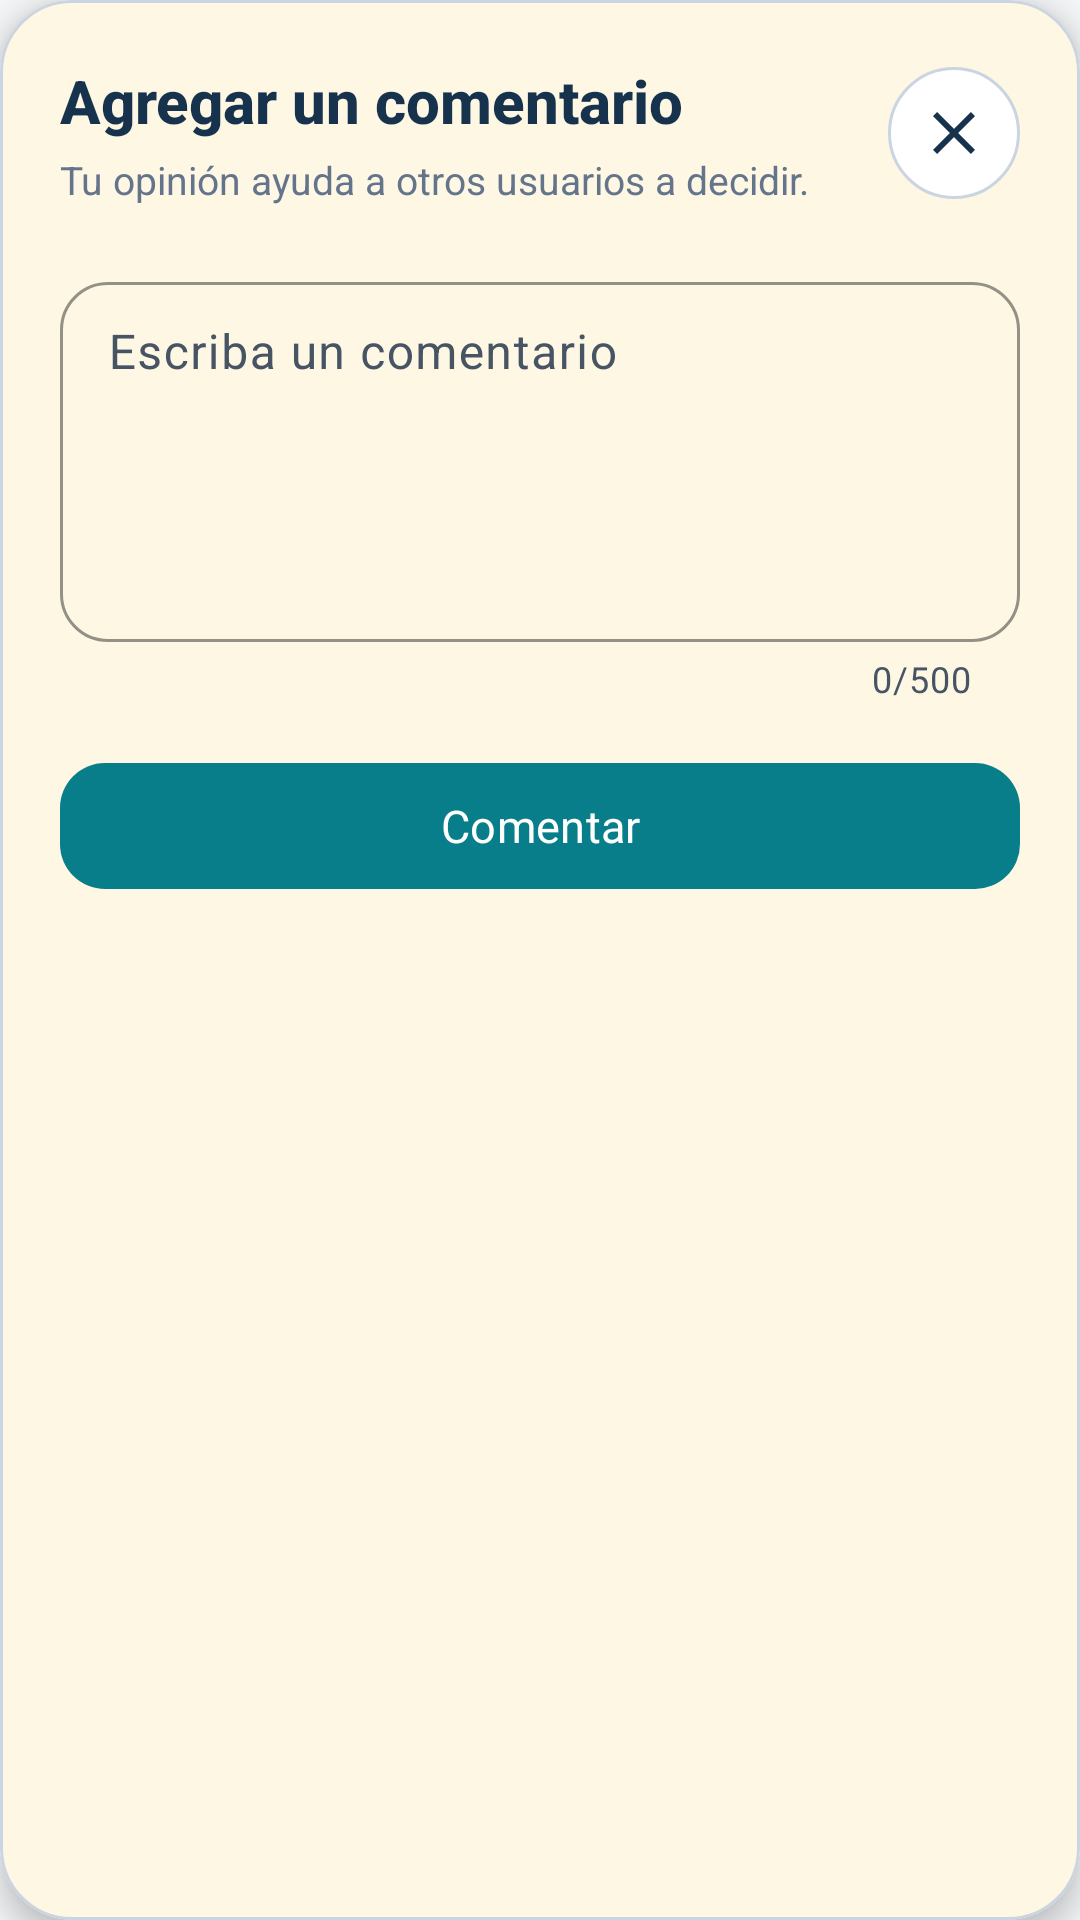

Icons on this 1080px x 1920px Android screen, each with its box as box(x1, y1, x2, y2):
Cerrar: box(888, 67, 1020, 199)
